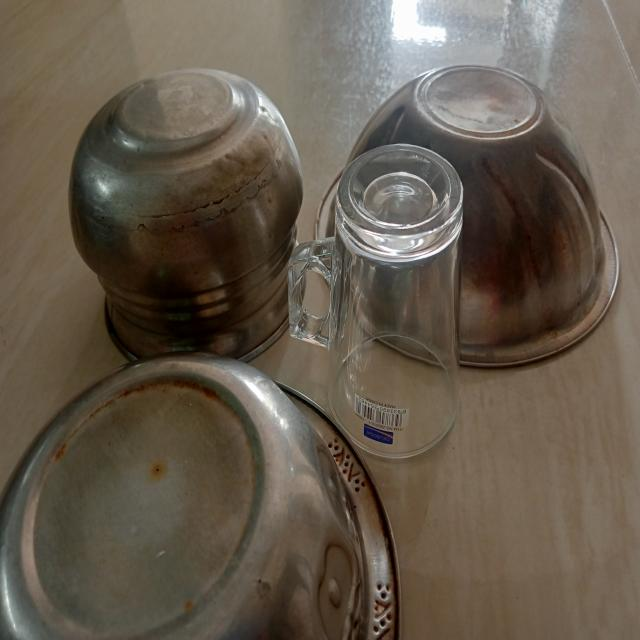glass-VX4N: (287, 145, 465, 462)
